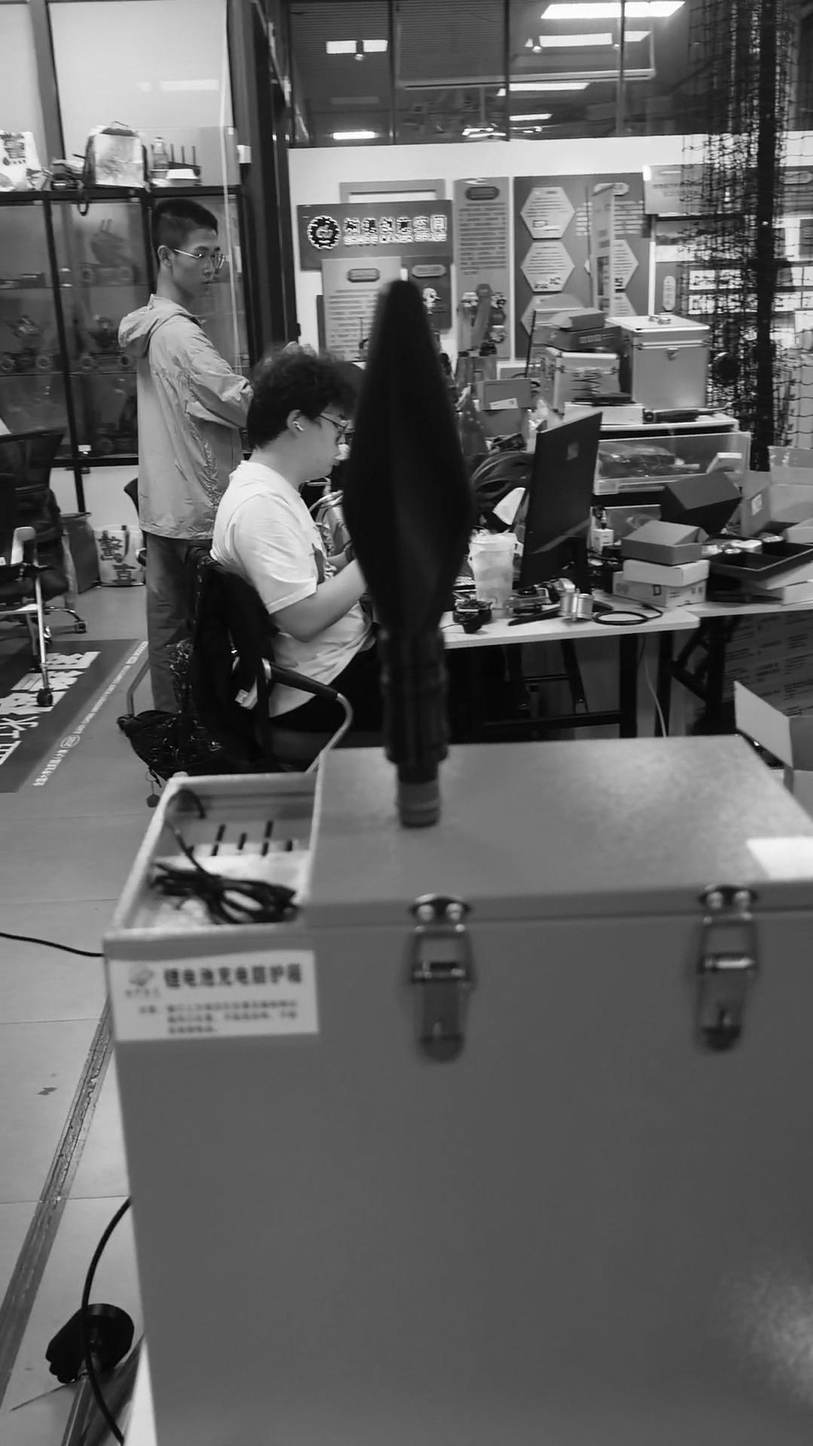base: (395, 778, 443, 828)
